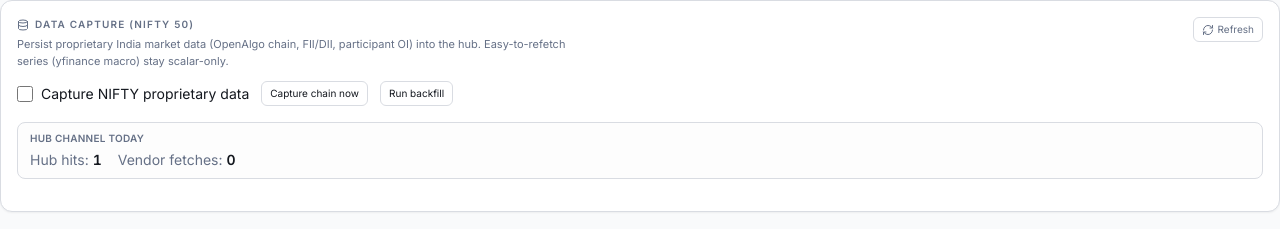
it: an older failure never shows an error over a newer success › DataCapturePanel: toggling capture while a read is in flight does not leave Refresh spinning or lose the saved value
Click the checkbox at [25, 94], box [17,86,33,102]
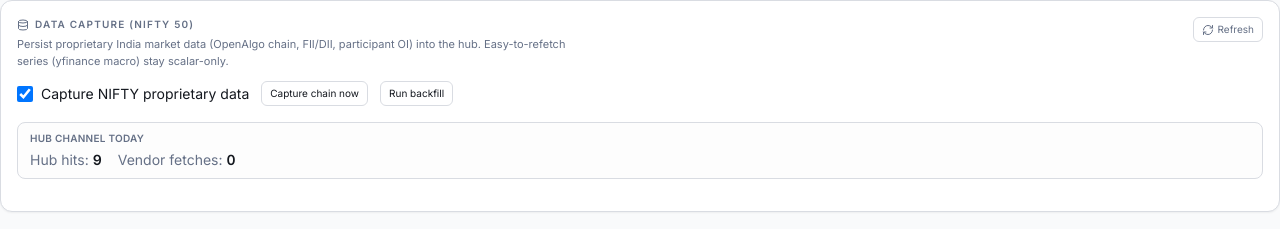
Result: the text "9" is shown at [93,151,102,168]
